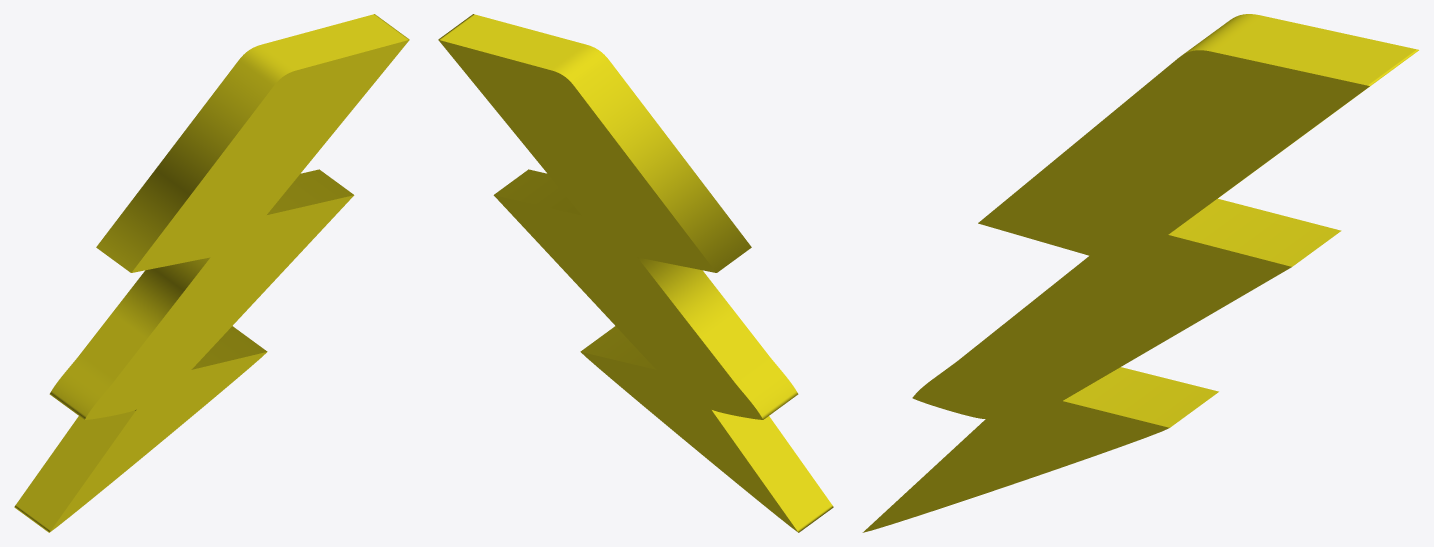
Rendered from eclair.glb.
3 renders of one model, left to right at view 1: azimuth 30°, elevation 25°; view 2: azimuth 150°, elevation 25°; view 3: azimuth 330°, elevation 25°, orthographic. The views are drawn at different scales.
Visible parts, largest first — view 1: Curve_0; view 2: Curve_0; view 3: Curve_0.
Boxes of the visible parts, bbox=[...] form: Curve_0: bbox=[14, 14, 409, 532]; Curve_0: bbox=[438, 14, 833, 532]; Curve_0: bbox=[862, 14, 1418, 532].
Size of the model in its own units: 2.01 by 2.16 by 0.3393.
